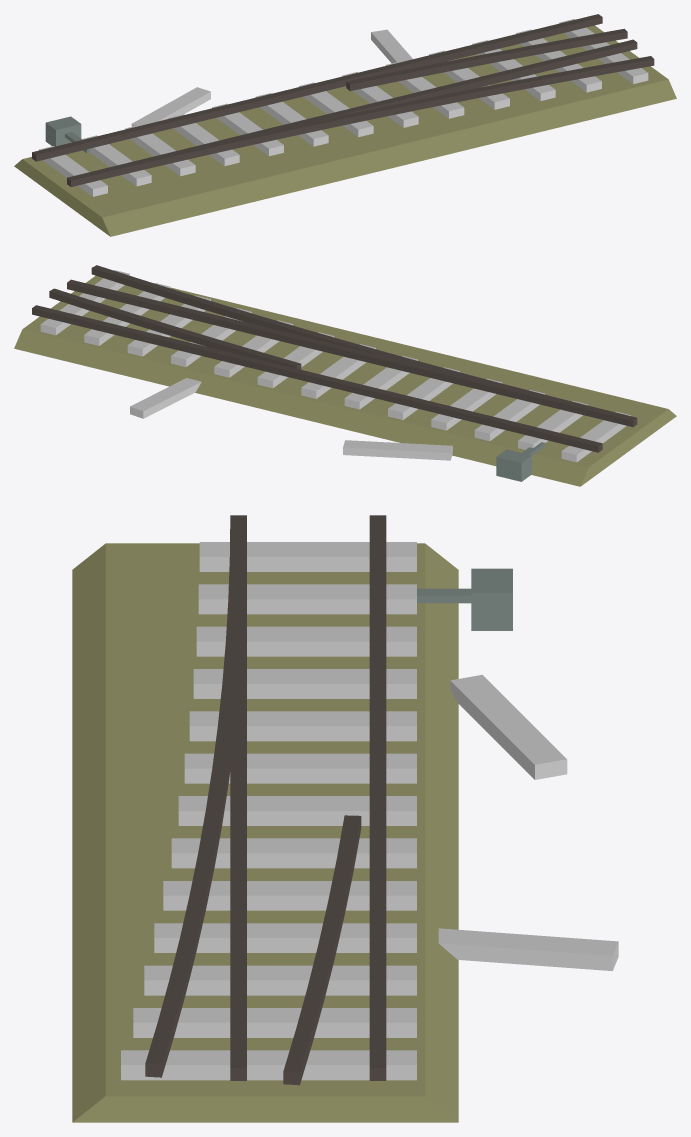
File: SM_Via_DesvioDer_v4_Danada_LOD1.fbx
3 views of the same model, one above another, from view 1: azimuth 30°, elevation 25°; view 2: azimuth 150°, elevation 25°; view 3: azimuth 270°, elevation 25° (orthographic). The views are drawn at different scales.
Parts seen in each view (by area): view 1: SM_via_trazado_v34_LOD1; view 2: SM_via_trazado_v34_LOD1; view 3: SM_via_trazado_v34_LOD1.
Part boxes in pixels (box(x1,y1,x2,y2)): SM_via_trazado_v34_LOD1: box(14, 14, 676, 236); SM_via_trazado_v34_LOD1: box(14, 265, 676, 486); SM_via_trazado_v34_LOD1: box(72, 515, 618, 1122).
Size of the model in its own units: 15.79 by 0.721 by 6.54.
